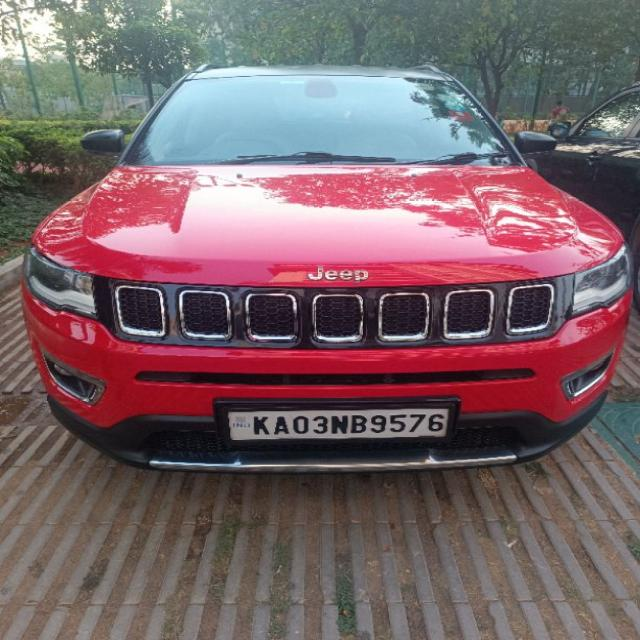license_plate: (212, 396, 460, 450)
